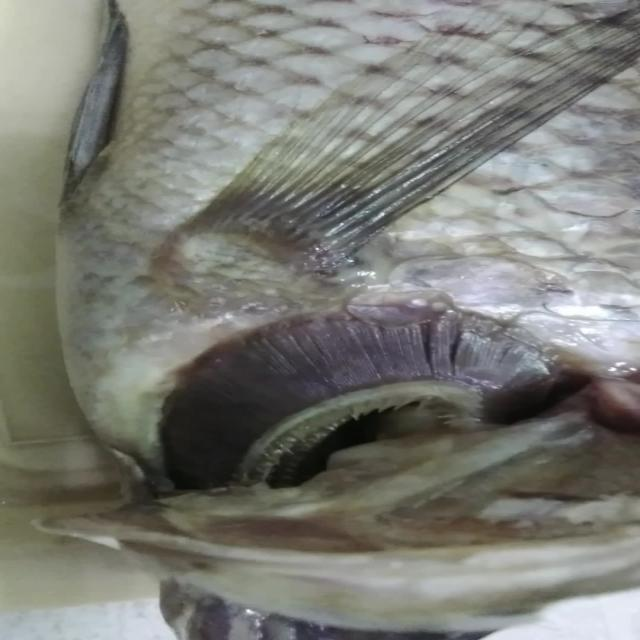Non-Fresh: (158, 294, 567, 486)
